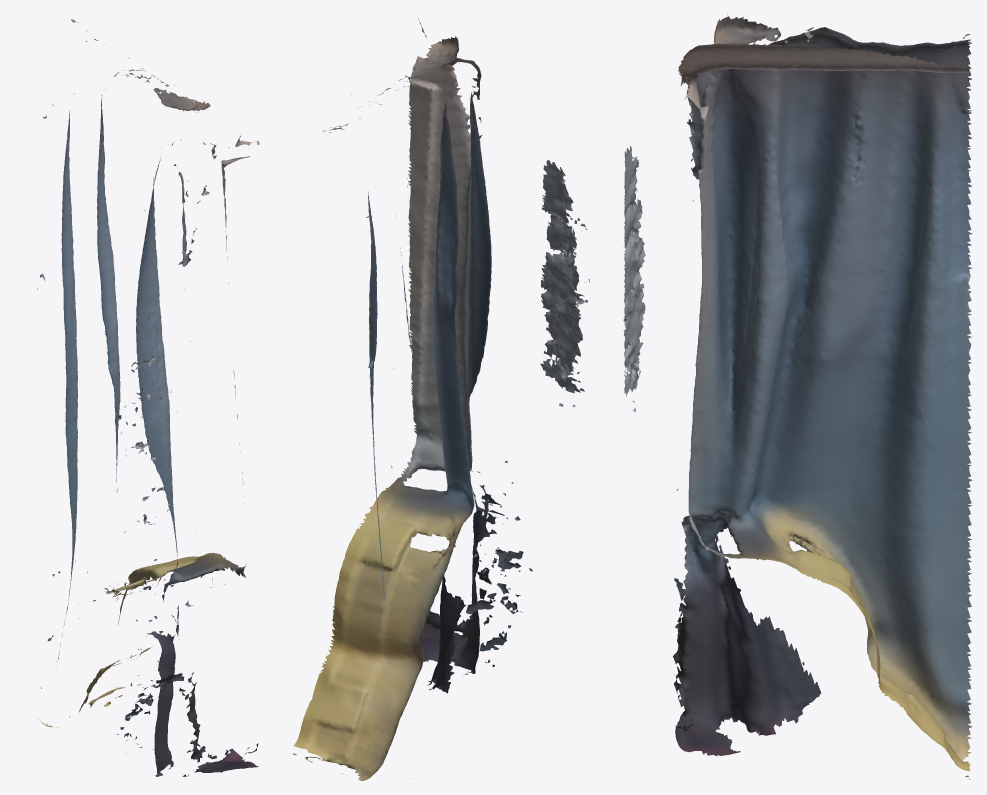
The model's file is apartment-full-0-30a117389956.glb.
3 renders of one model, left to right at view 1: azimuth 30°, elevation 25°; view 2: azimuth 150°, elevation 25°; view 3: azimuth 270°, elevation 25°, orthographic. The views are drawn at different scales.
Bounding box in the file's own units: 0.41 × 1.69 × 0.713.
